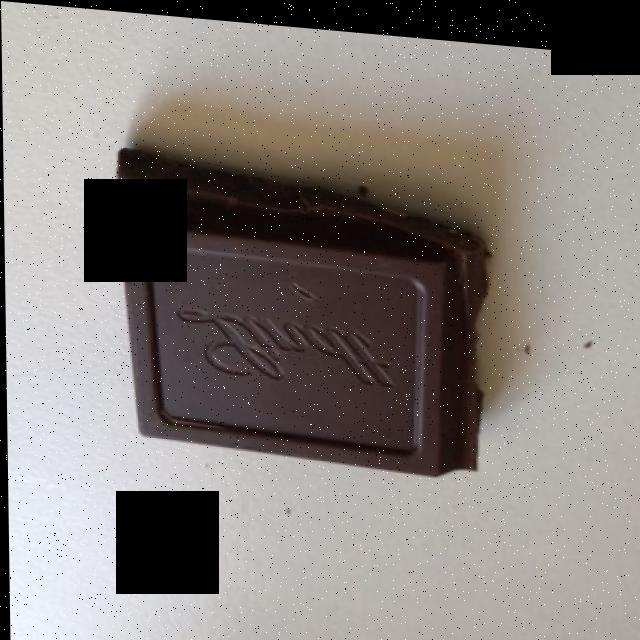dark-chocolate: (116, 157, 482, 454)
